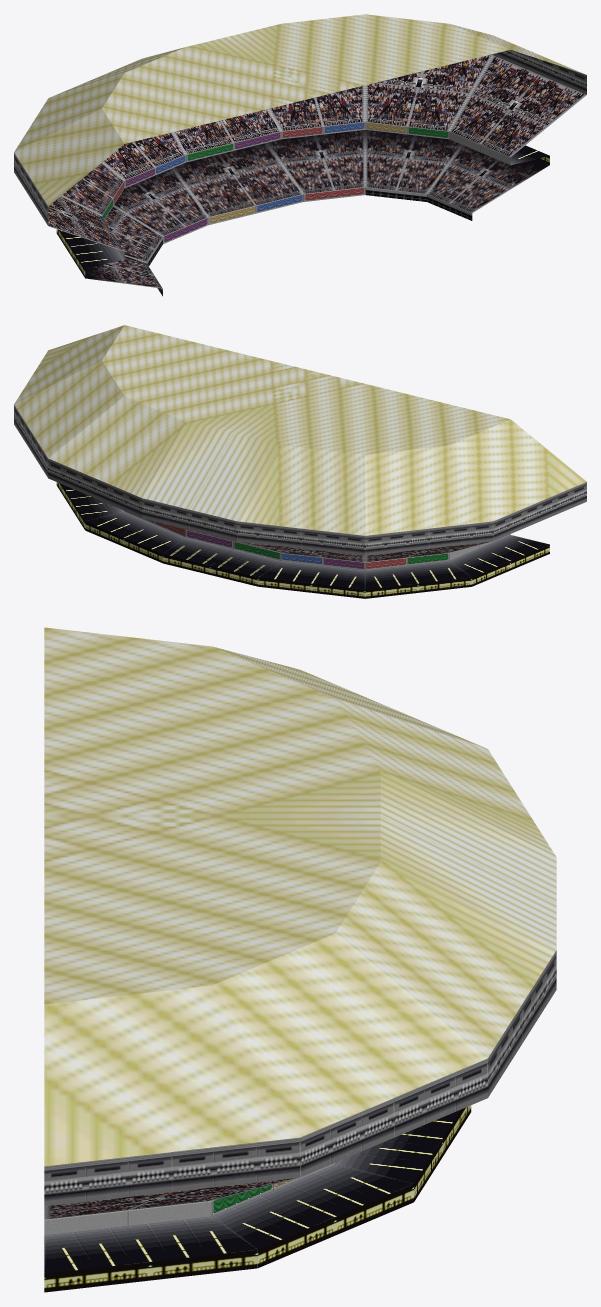
The picture shows the model from 3 angles, top to bottom: view 1: azimuth 30°, elevation 25°; view 2: azimuth 150°, elevation 25°; view 3: azimuth 270°, elevation 25°; orthographic projection. The views are drawn at different scales.
Size of the model in its own units: 160 by 46.12 by 66.02.
14 materials, 14 textured.
